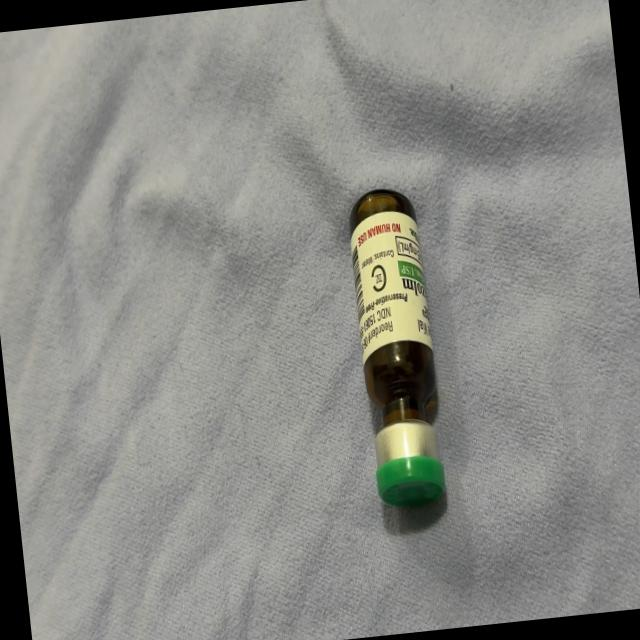midazolm: (346, 189, 448, 505)
